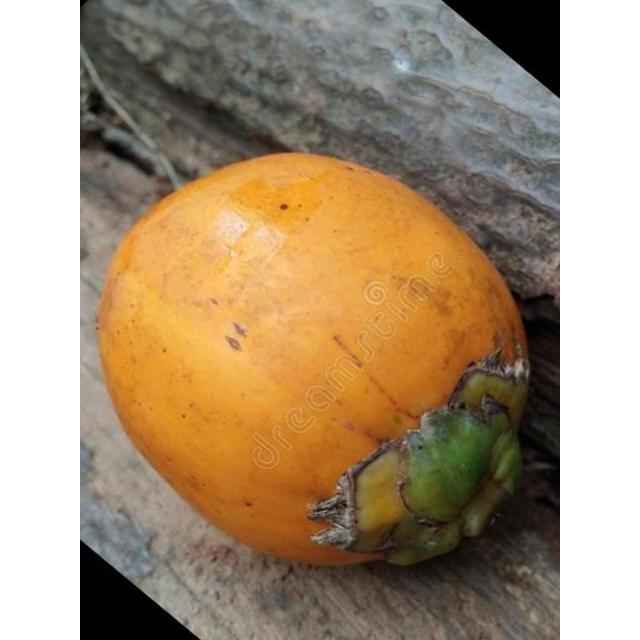good: (96, 152, 531, 570)
